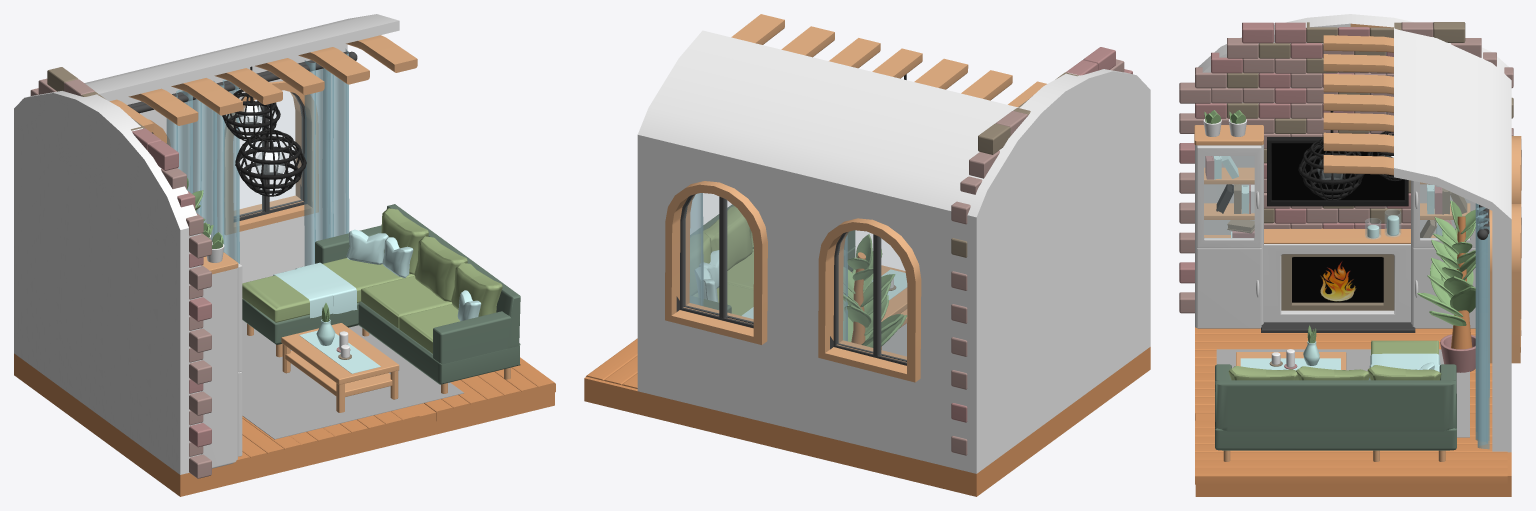
3 renders of one model, left to right at view 1: azimuth 30°, elevation 25°; view 2: azimuth 150°, elevation 25°; view 3: azimuth 270°, elevation 25°, orthographic. The views are drawn at different scales.
Visible parts, largest first — view 1: Room, pCube269, polySurface5, pPlane7, pPlane6, polySurface7, pCube4, pCube1, pPlane8, pCube279, pPlane4, Blanket (+20 smaller); view 2: Room, polySurface6, polySurface7, pCube11, pPlane7, pCube249, pCube248, pCube252, pCube198, pCube10, pCube1, pCube2; view 3: Room, pCube6, pCube231, polySurface3, pCube252, pCube254, pCube4, pCube255, pPlane6, polySurface5 (×2), polySurface9, pCube251 (+62 smaller).
Boxes of the visible parts, x1,y1,x2,y2 form: Room: (14, 14, 554, 496); pCube269: (242, 320, 463, 439); polySurface5: (201, 268, 237, 468); pPlane7: (304, 60, 330, 265); pPlane6: (323, 49, 349, 238); polySurface7: (224, 81, 318, 234); pCube4: (358, 301, 520, 384); pCube1: (242, 258, 414, 322); pPlane8: (213, 79, 239, 263); pCube279: (433, 311, 511, 364); pPlane4: (193, 81, 217, 240); Blanket: (273, 262, 357, 318); Room: (584, 14, 1150, 496); polySurface6: (818, 218, 921, 382); polySurface7: (665, 181, 767, 344); pCube11: (703, 206, 752, 270); pPlane7: (690, 193, 703, 305); pCube249: (873, 234, 881, 356); pCube248: (719, 196, 727, 318); pCube252: (586, 338, 637, 380); pCube198: (978, 123, 1010, 154); pCube10: (690, 233, 711, 295); pCube1: (693, 284, 753, 315); pCube2: (727, 251, 753, 289); Room: (1195, 14, 1511, 496); pCube6: (1215, 380, 1456, 431); pCube231: (1267, 137, 1408, 206); polySurface3: (1264, 244, 1410, 322); pCube252: (1195, 468, 1507, 484); pCube254: (1197, 248, 1261, 328); pCube4: (1215, 394, 1456, 450); pCube255: (1204, 156, 1254, 239); pPlane6: (1475, 215, 1489, 449); polySurface5 (×2): (1195, 144, 1470, 327); polySurface9: (1197, 145, 1261, 248); pCube251: (1195, 460, 1507, 467).
Bounding box in the file's own units: 0.2133 × 0.1765 × 0.1769.
Materials: 25 (1 with a texture image).
